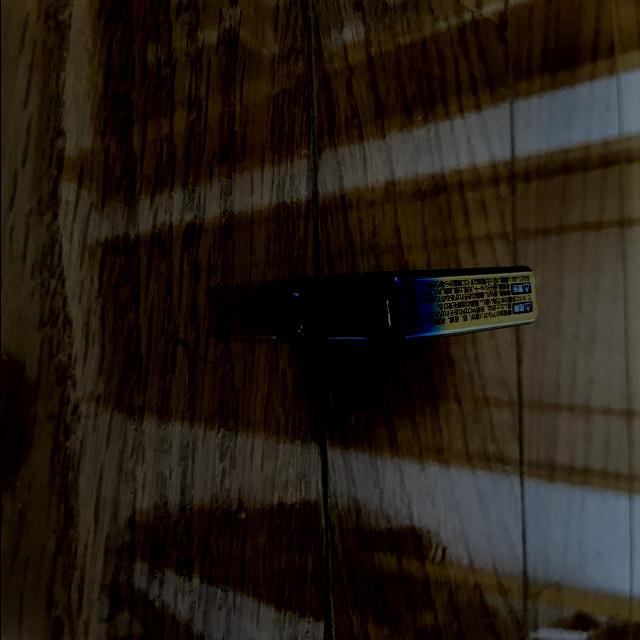9V: (289, 266, 540, 346)
